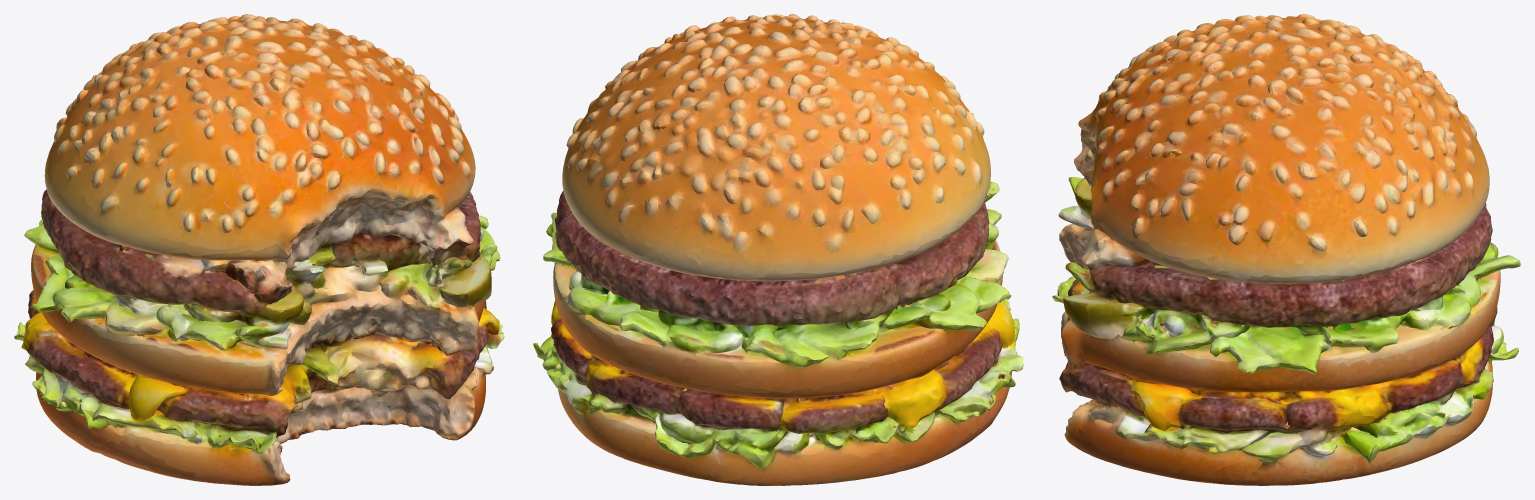
Rendered from burger-1.glb.
The picture shows the model from 3 angles, left to right: view 1: azimuth 30°, elevation 25°; view 2: azimuth 150°, elevation 25°; view 3: azimuth 270°, elevation 25°; orthographic projection.
Parts seen in each view (by area): view 1: geometry_0; view 2: geometry_0; view 3: geometry_0.
Part boxes in pixels (x1,y1,x2,y2): geometry_0: [14, 14, 504, 485]; geometry_0: [533, 14, 1023, 485]; geometry_0: [1052, 14, 1520, 485].
Size of the model in its own units: 0.1584 by 0.125 by 0.151.
Materials: 1 (1 with a texture image).
